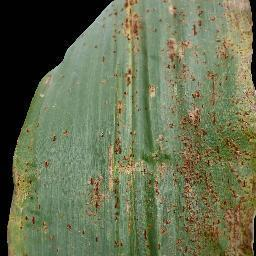Corn_Common_Rust: (109, 0, 256, 256), (6, 123, 109, 256), (35, 74, 58, 109), (94, 42, 110, 67), (95, 75, 109, 100), (101, 18, 110, 33), (81, 42, 87, 54)
